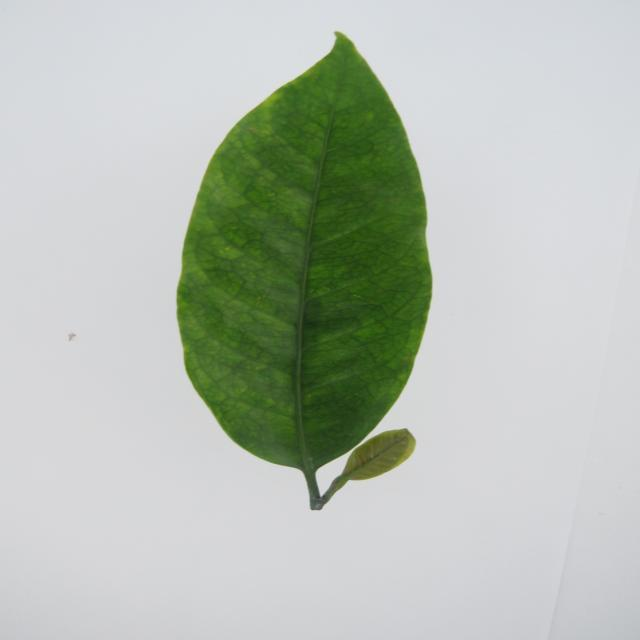DeficienciaNutricional-Hierro: (177, 32, 432, 510)
